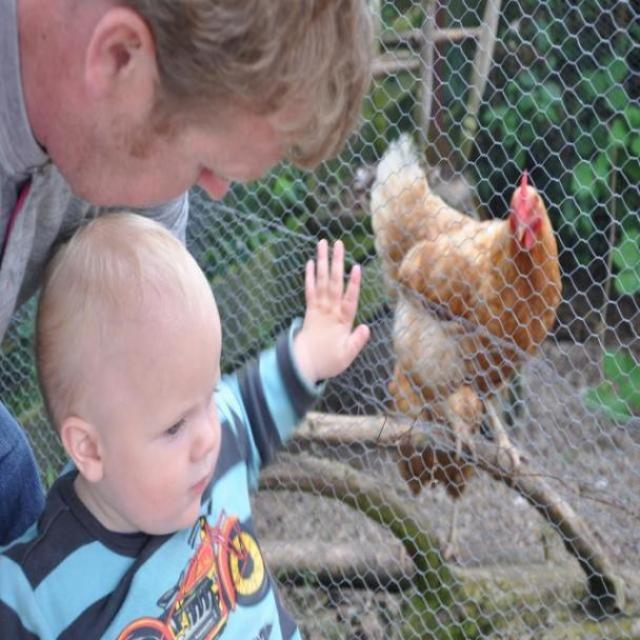Chicken: (369, 123, 571, 468), (384, 356, 482, 577)
